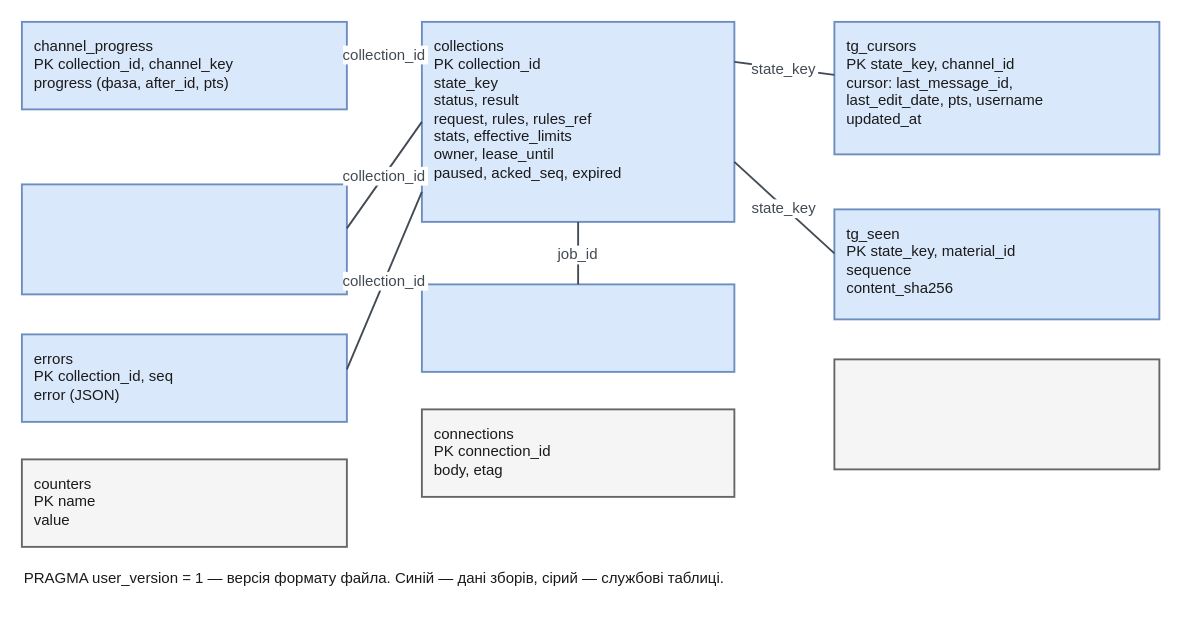
Image size: 1183x619. Some labels were removed from this diagram. The shapes that lost their labels are listed below. From the top down, each one's centre as x and y in pixels, then its label:
pixel 183 239: materials PK collection_id, seq observation_id material (JSON)
pixel 577 327: jobs PK job_id = collection_id body (JSON)
pixel 996 414: idempotency PK key fingerprint, state expires_at, response
